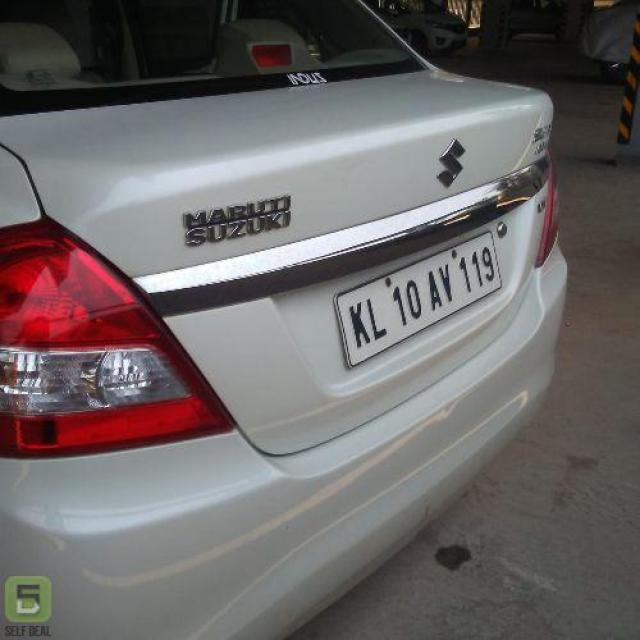Number-Plate: (338, 231, 505, 362)
